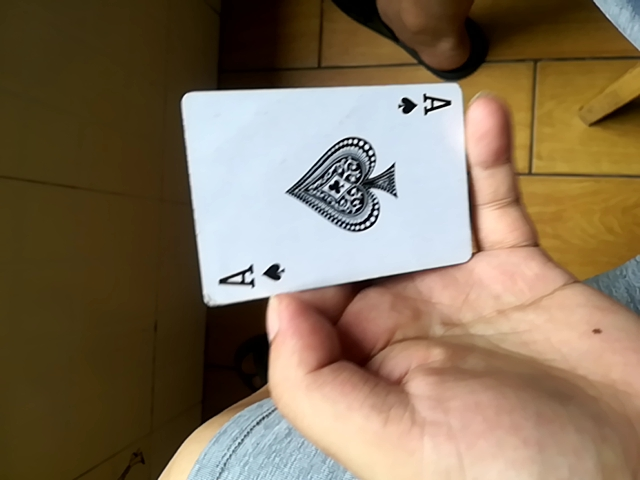ht a: (178, 75, 470, 309)
